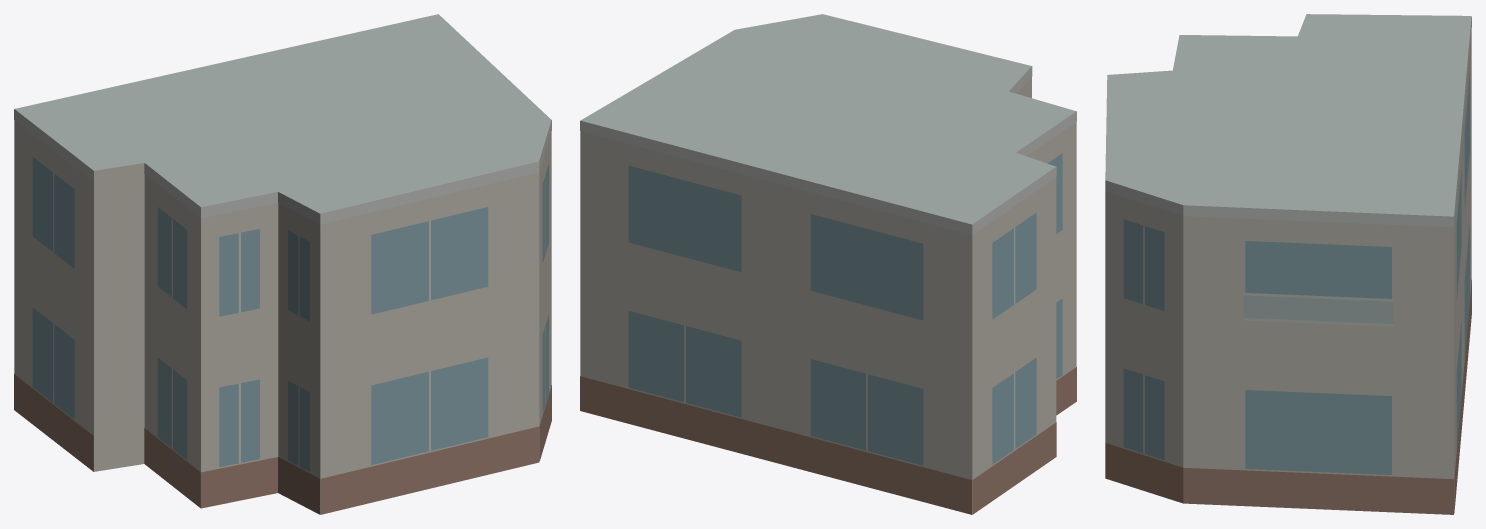
Rendered from survey-upis-32753069.glb.
3 views of the same model, side by side, from view 1: azimuth 30°, elevation 25°; view 2: azimuth 150°, elevation 25°; view 3: azimuth 270°, elevation 25° (orthographic). The views are drawn at different scales.
Parts seen in each view (by area): view 1: survey-upis-32753069.tmp; view 2: survey-upis-32753069.tmp; view 3: survey-upis-32753069.tmp.
Part boxes in pixels (bbox=[...]): survey-upis-32753069.tmp: bbox=[14, 14, 551, 514]; survey-upis-32753069.tmp: bbox=[580, 14, 1076, 514]; survey-upis-32753069.tmp: bbox=[1105, 14, 1471, 514].
Size of the model in its own units: 9.77 by 6.7 by 7.47.
